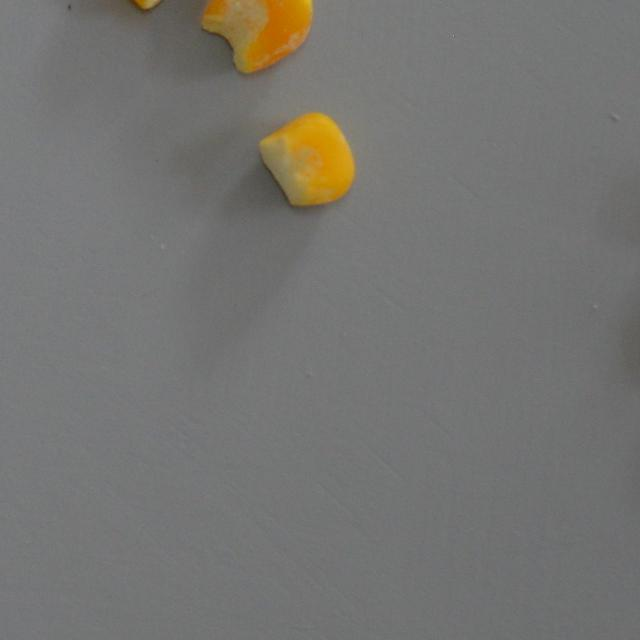no_desgerminado: (256, 106, 358, 212)
pelicula: (200, 0, 316, 77), (108, 0, 227, 14)
